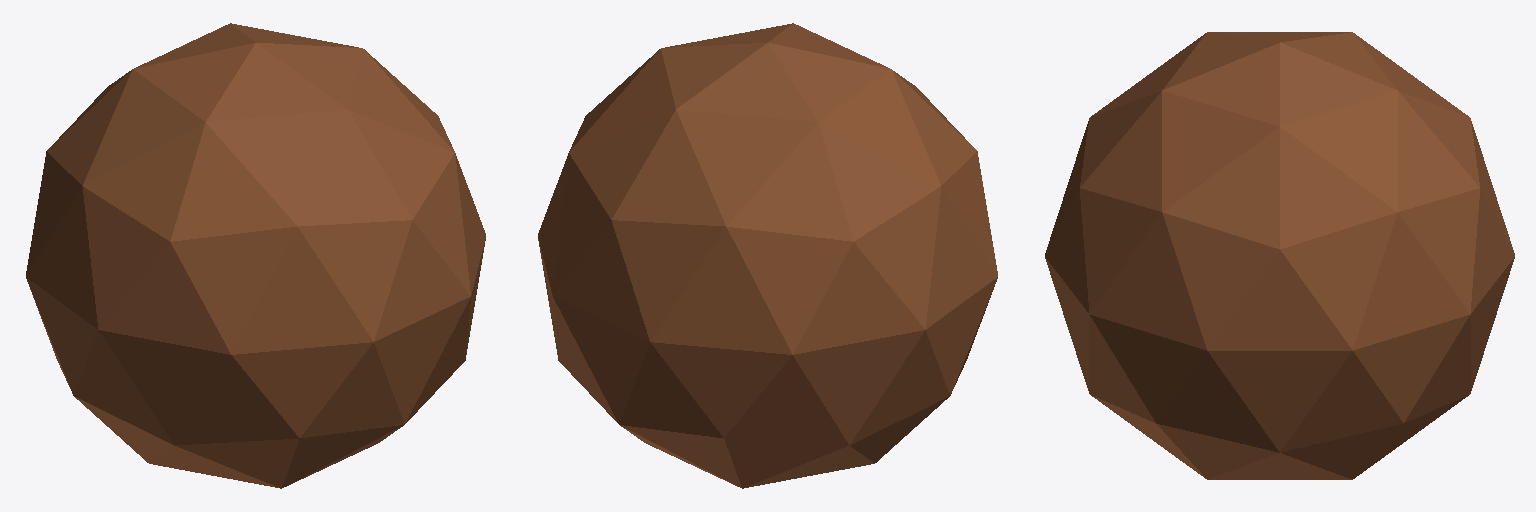
The model's file is Coconut.obj.
The picture shows the model from 3 angles: view 1: azimuth 30°, elevation 25°; view 2: azimuth 150°, elevation 25°; view 3: azimuth 270°, elevation 25°; orthographic projection.
Parts seen in each view (by area): view 1: Coconut.001_Icosphere.138; view 2: Coconut.001_Icosphere.138; view 3: Coconut.001_Icosphere.138.
Part boxes in pixels (x1,y1,x2,y2): Coconut.001_Icosphere.138: (26,23,485,488); Coconut.001_Icosphere.138: (538,23,997,488); Coconut.001_Icosphere.138: (1045,32,1514,479).
Bounding box in the file's own units: 0.2461 × 0.2587 × 0.2587.